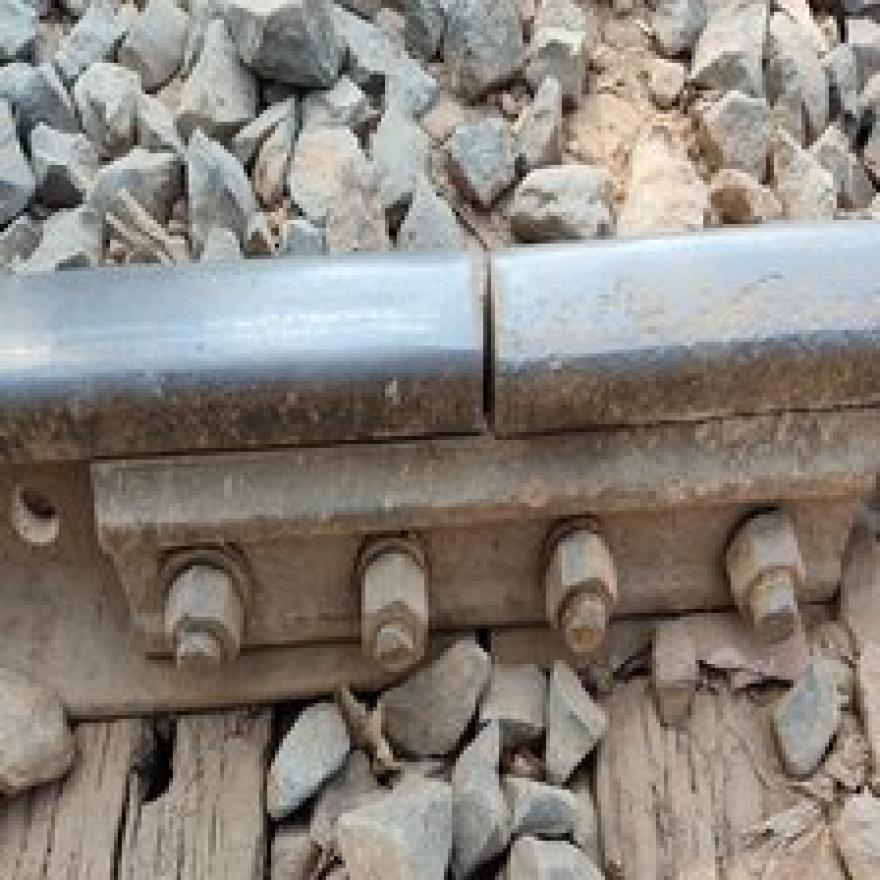railway-gap: (373, 239, 605, 458)
